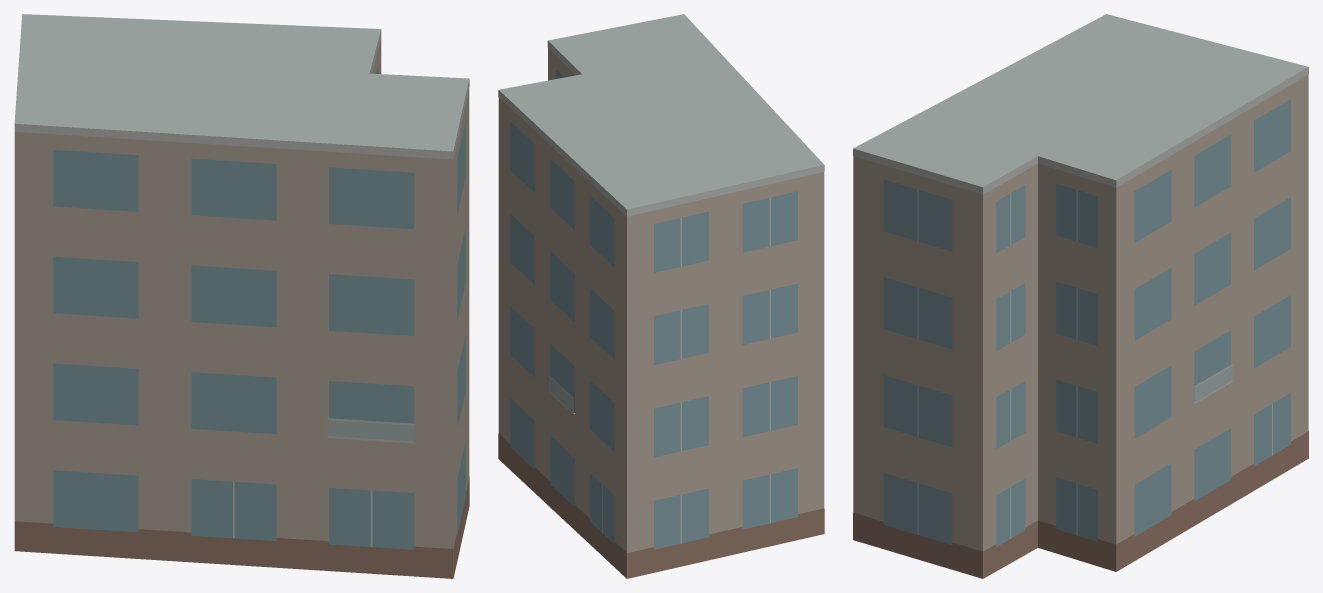
File: survey-upis-32971784.glb
3 renders of one model, left to right at view 1: azimuth 30°, elevation 25°; view 2: azimuth 150°, elevation 25°; view 3: azimuth 270°, elevation 25°, orthographic. The views are drawn at different scales.
Parts seen in each view (by area): view 1: survey-upis-32971784.tmp; view 2: survey-upis-32971784.tmp; view 3: survey-upis-32971784.tmp.
Boxes of the visible parts, x1=… form: survey-upis-32971784.tmp: x1=14, y1=14, x2=469, y2=578; survey-upis-32971784.tmp: x1=498, y1=14, x2=824, y2=578; survey-upis-32971784.tmp: x1=853, y1=14, x2=1308, y2=578.
Size of the model in its own units: 12.2 by 12.85 by 13.56.
